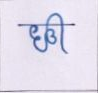i_matra: (51, 12, 70, 54)
